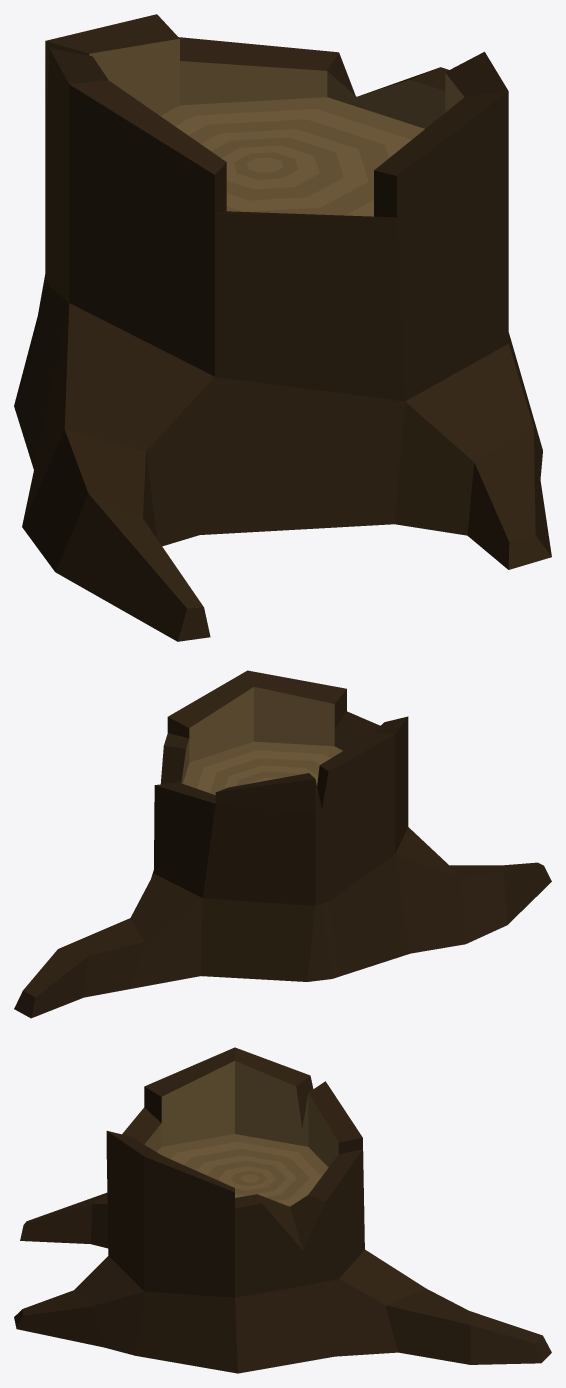
Rendered from dark tree stump.fbx.
The picture shows the model from 3 angles, top to bottom: view 1: azimuth 30°, elevation 25°; view 2: azimuth 150°, elevation 25°; view 3: azimuth 270°, elevation 25°; orthographic projection. The views are drawn at different scales.
Visible parts, largest first — view 1: Tree Stump; view 2: Tree Stump; view 3: Tree Stump.
Boxes of the visible parts, <box> form: Tree Stump: <box>14,14,551,641</box>; Tree Stump: <box>14,670,551,1018</box>; Tree Stump: <box>14,1047,551,1373</box>.
Size of the model in its own units: 134 by 91.29 by 210.
